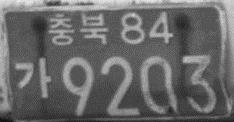0: (139, 54, 179, 114)
2: (100, 55, 140, 117)
3: (180, 53, 217, 113)
4: (147, 9, 174, 44)
8: (119, 11, 144, 44)
9: (62, 56, 95, 117)
가: (13, 56, 53, 100)
충북_O: (47, 11, 108, 46)
